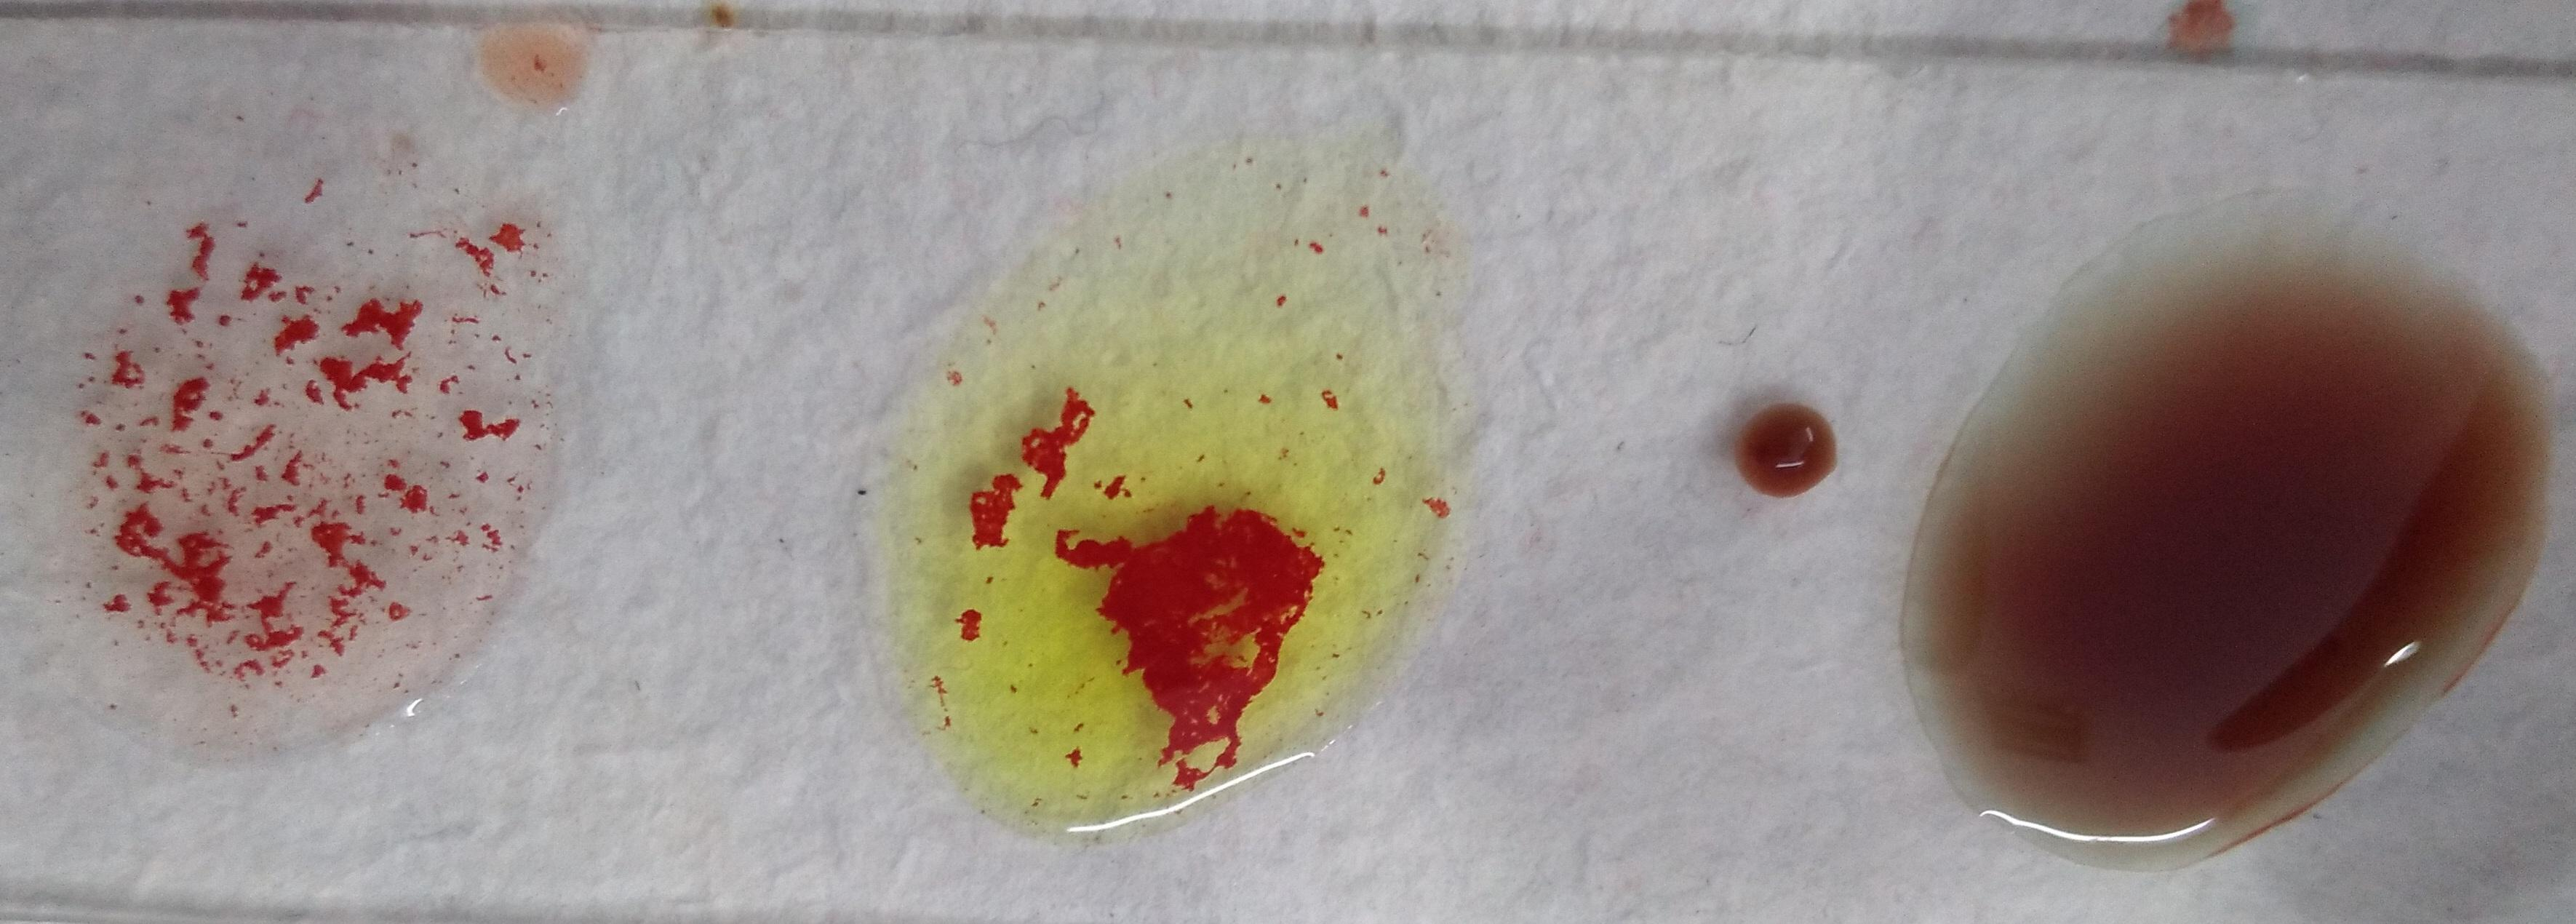B: (861, 136, 1426, 839)
D: (10, 102, 545, 761)
